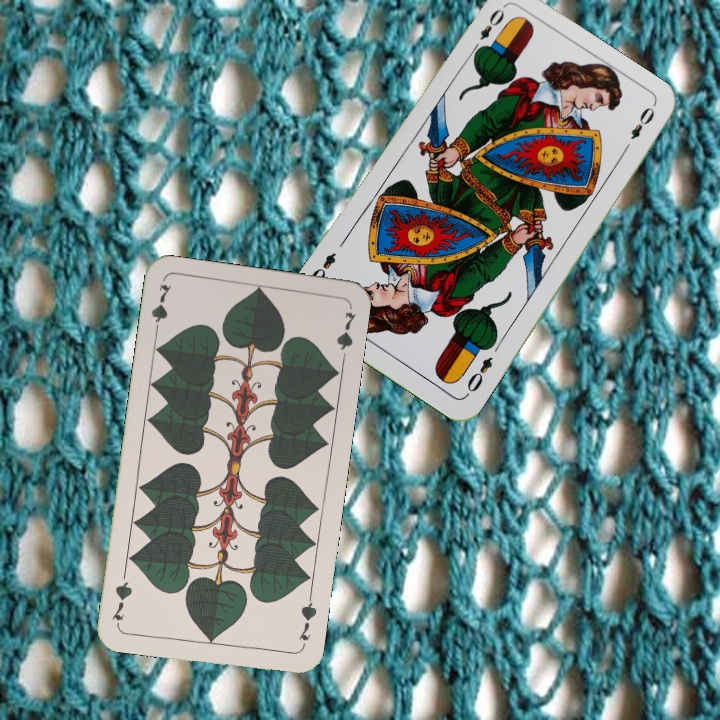EO: (467, 4, 507, 56), (462, 352, 495, 399)
G7: (147, 280, 174, 338), (295, 592, 320, 643)
